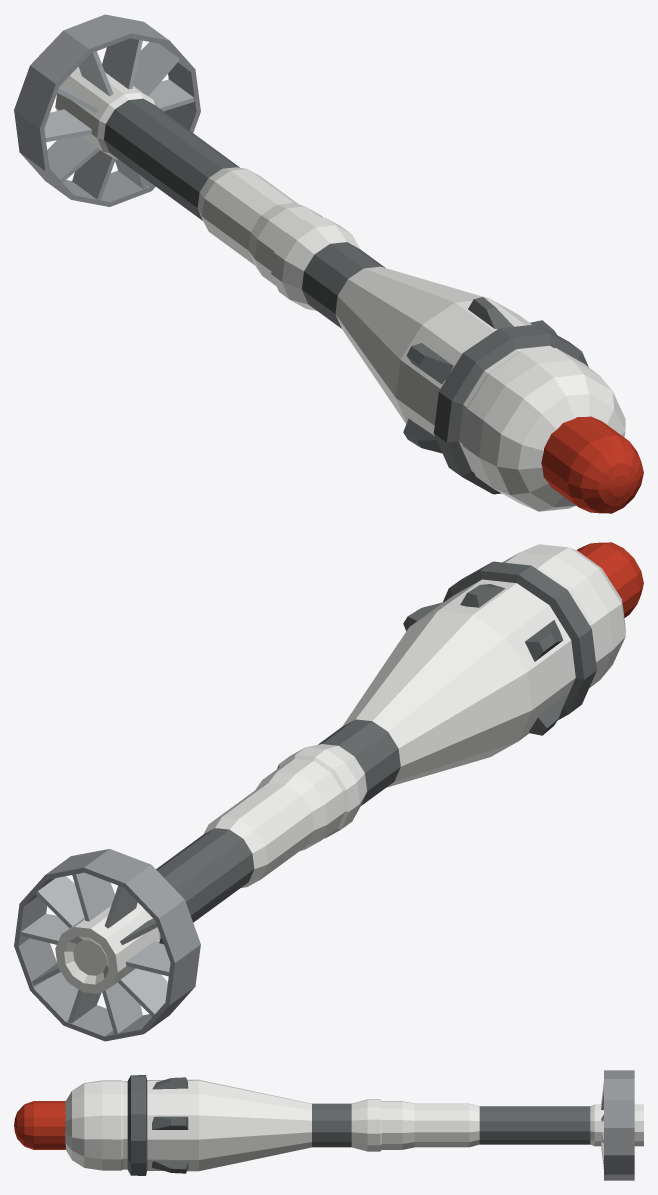
Rendered from SM_Missile_03.fbx.
3 renders of one model, top to bottom at view 1: azimuth 30°, elevation 25°; view 2: azimuth 150°, elevation 25°; view 3: azimuth 270°, elevation 25°, orthographic. The views are drawn at different scales.
Visible parts, largest first — view 1: SM_Missile_03; view 2: SM_Missile_03; view 3: SM_Missile_03.
Part boxes in pixels (x1,y1,x2,y2): SM_Missile_03: [14, 14, 643, 513]; SM_Missile_03: [14, 542, 643, 1041]; SM_Missile_03: [14, 1070, 643, 1180].
Bounding box in the file's own units: 3.99 × 3.99 × 22.92.
Materials: 1 (1 with a texture image).
